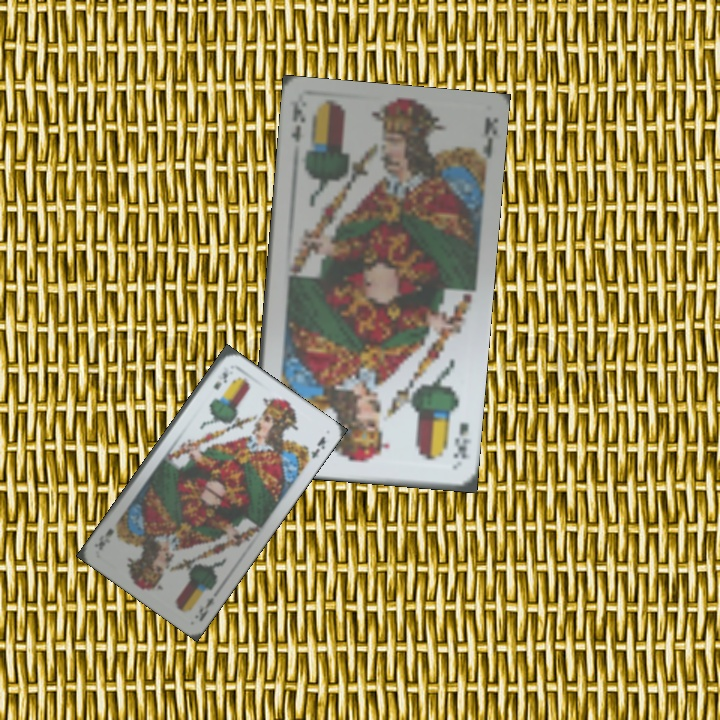EK: (449, 419, 473, 461), (287, 100, 308, 145), (194, 593, 217, 624), (209, 367, 231, 392)
